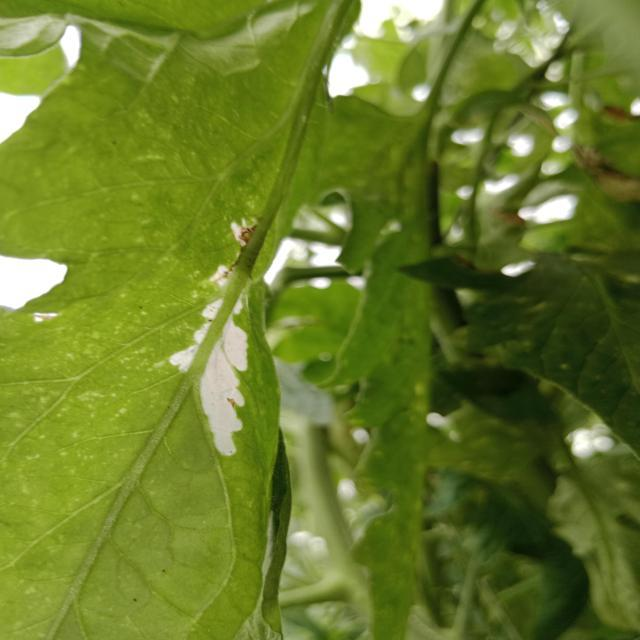Tuta absoluta: (198, 314, 249, 456), (166, 294, 230, 373)
